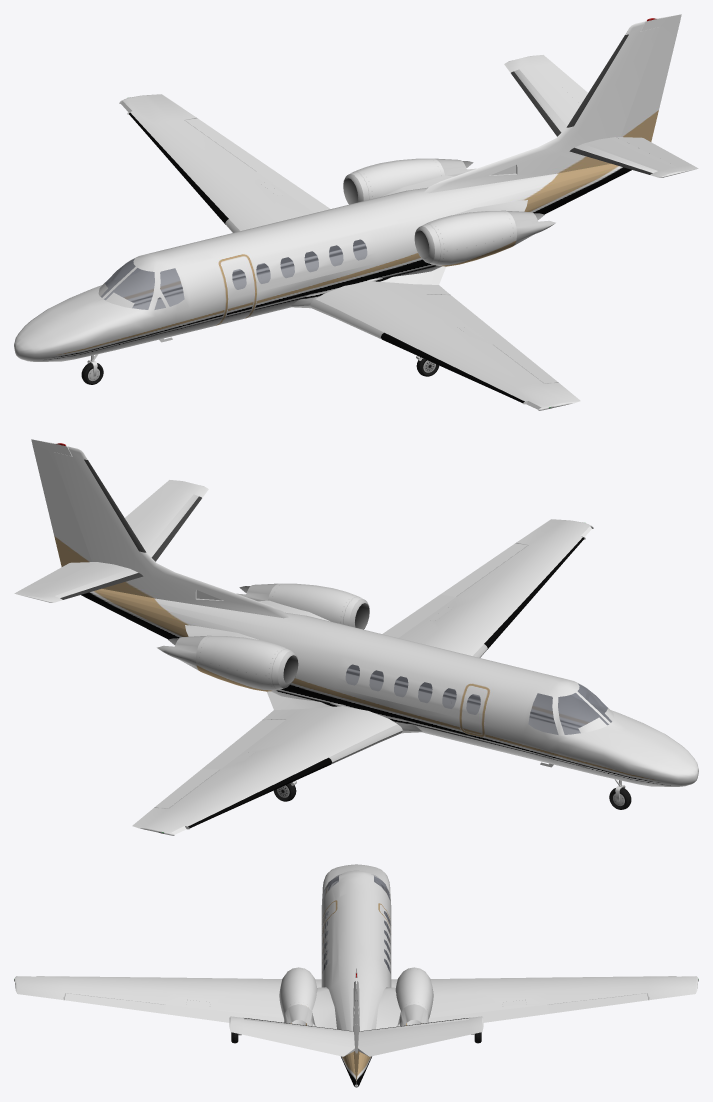
3 renders of one model, top to bottom at view 1: azimuth 30°, elevation 25°; view 2: azimuth 150°, elevation 25°; view 3: azimuth 270°, elevation 25°, orthographic. The views are drawn at different scales.
Parts seen in each view (by area): view 1: body; view 2: body; view 3: body.
Part boxes in pixels (x1,y1,x2,y2): body: (14,14,698,410); body: (14,439,698,835); body: (14,864,698,1087).
Bounding box in the file's own units: 14.36 × 4.74 × 15.82.
10 materials, 6 textured.
